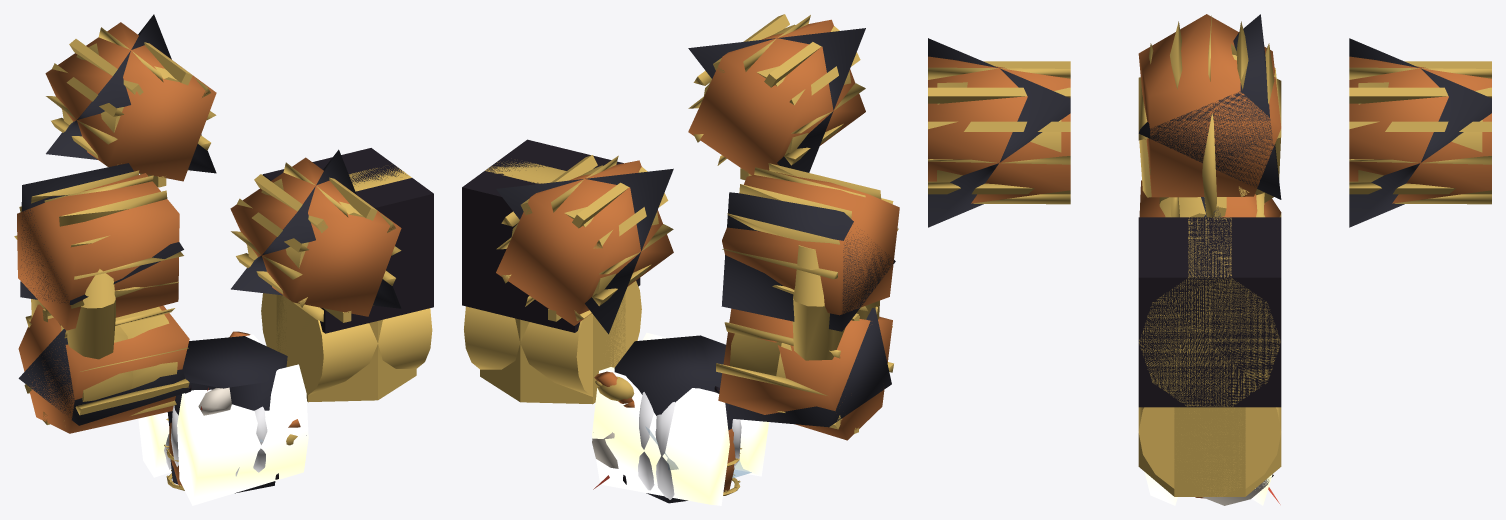
Rendered from maitre-horloge-leger.glb.
3 renders of one model, left to right at view 1: azimuth 30°, elevation 25°; view 2: azimuth 150°, elevation 25°; view 3: azimuth 270°, elevation 25°, orthographic. The views are drawn at different scales.
Parts seen in each view (by area): view 1: maitre_horloge_corps, maitre_horloge_roue2, maitre_horloge_roue1, maitre_horloge_roue0, maitre_horloge_roue3, maitre_horloge_balancier, maitre_horloge_heures, maitre_horloge_cle; view 2: maitre_horloge_corps, maitre_horloge_roue2, maitre_horloge_roue0, maitre_horloge_roue1, maitre_horloge_roue3, maitre_horloge_balancier, maitre_horloge_heures, maitre_horloge_cle; view 3: maitre_horloge_heures, maitre_horloge_roue2, maitre_horloge_roue0, maitre_horloge_roue1, maitre_horloge_balancier, maitre_horloge_roue3, maitre_horloge_cle, maitre_horloge_corps.
Boxes of the visible parts, x1,y1,x2,y2 form: maitre_horloge_corps: [138, 331, 308, 505]; maitre_horloge_roue2: [14, 163, 183, 330]; maitre_horloge_roue1: [230, 149, 401, 322]; maitre_horloge_roue0: [45, 14, 216, 187]; maitre_horloge_roue3: [18, 304, 189, 433]; maitre_horloge_balancier: [261, 293, 432, 402]; maitre_horloge_heures: [262, 148, 433, 333]; maitre_horloge_cle: [31, 269, 115, 359]; maitre_horloge_corps: [592, 332, 768, 505]; maitre_horloge_roue2: [721, 163, 899, 331]; maitre_horloge_roue0: [496, 155, 673, 334]; maitre_horloge_roue1: [688, 14, 865, 180]; maitre_horloge_roue3: [716, 306, 893, 440]; maitre_horloge_balancier: [464, 281, 641, 404]; maitre_horloge_heures: [462, 139, 640, 332]; maitre_horloge_cle: [792, 245, 879, 360]; maitre_horloge_heures: [1138, 217, 1281, 407]; maitre_horloge_roue2: [1138, 14, 1281, 203]; maitre_horloge_roue0: [1349, 38, 1491, 227]; maitre_horloge_roue1: [928, 38, 1070, 227]; maitre_horloge_balancier: [1138, 407, 1281, 496]; maitre_horloge_roue3: [1139, 180, 1281, 217]; maitre_horloge_cle: [1139, 68, 1280, 217]; maitre_horloge_corps: [1144, 472, 1280, 505].
Bounding box in the file's own units: 6.6 × 6.3 × 7.9.
